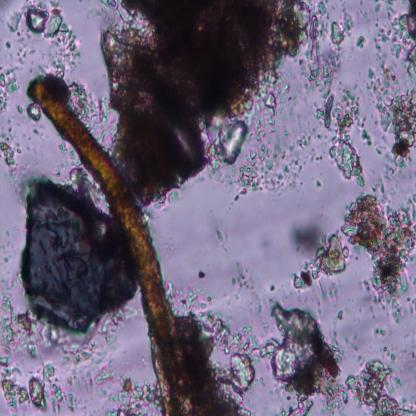Background material: (104, 0, 308, 182), (3, 180, 134, 328), (272, 303, 346, 416), (340, 194, 416, 304), (194, 328, 256, 413), (318, 92, 368, 189), (368, 64, 416, 165), (290, 234, 349, 292), (91, 364, 156, 416), (307, 1, 346, 86), (349, 364, 416, 413), (0, 366, 64, 412), (46, 328, 108, 372), (376, 1, 416, 59), (0, 307, 38, 366), (173, 285, 217, 335), (365, 154, 416, 197), (50, 16, 82, 80), (229, 253, 265, 307), (10, 1, 64, 36), (291, 214, 322, 254), (3, 120, 24, 175), (208, 216, 231, 252), (63, 369, 82, 411), (0, 69, 17, 110), (228, 182, 256, 206), (374, 342, 398, 368), (253, 334, 273, 364), (356, 131, 377, 152), (389, 306, 416, 321), (26, 99, 41, 122), (343, 10, 355, 34), (355, 34, 367, 51), (334, 306, 346, 320), (268, 284, 277, 294), (198, 267, 204, 281)
Natural material: (28, 75, 198, 413)
